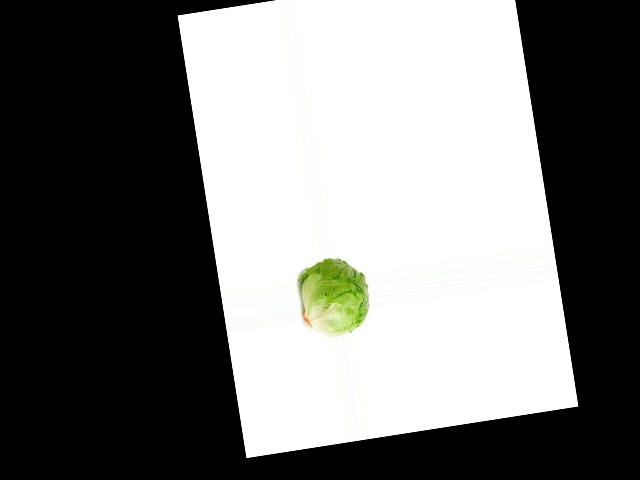lettuce: (296, 253, 374, 336)
